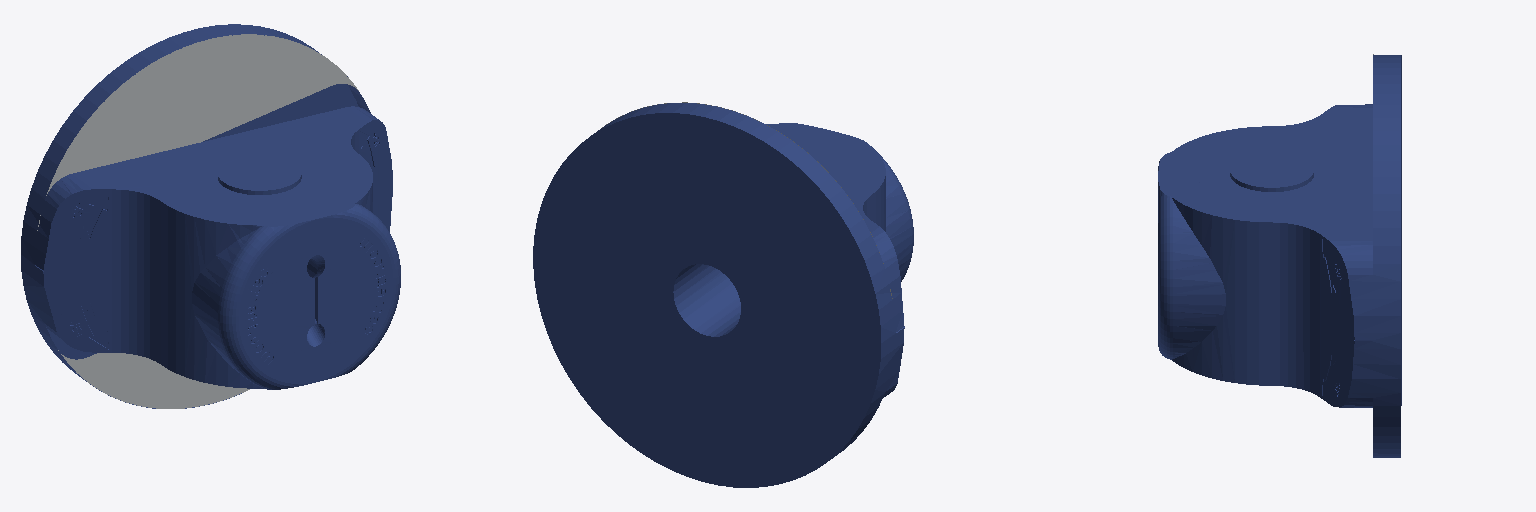
3 views of the same model, side by side, from view 1: azimuth 30°, elevation 25°; view 2: azimuth 150°, elevation 25°; view 3: azimuth 270°, elevation 25° (orthographic).
Parts seen in each view (by area): view 1: mesh_18_Imported18.001; view 2: mesh_18_Imported18.001; view 3: mesh_18_Imported18.001.
Boxes of the visible parts, x1,y1,x2,y2 form: mesh_18_Imported18.001: [21, 24, 400, 408]; mesh_18_Imported18.001: [533, 102, 913, 487]; mesh_18_Imported18.001: [1158, 54, 1401, 457].
Size of the model in its own units: 0.085 by 0.085 by 0.0514.